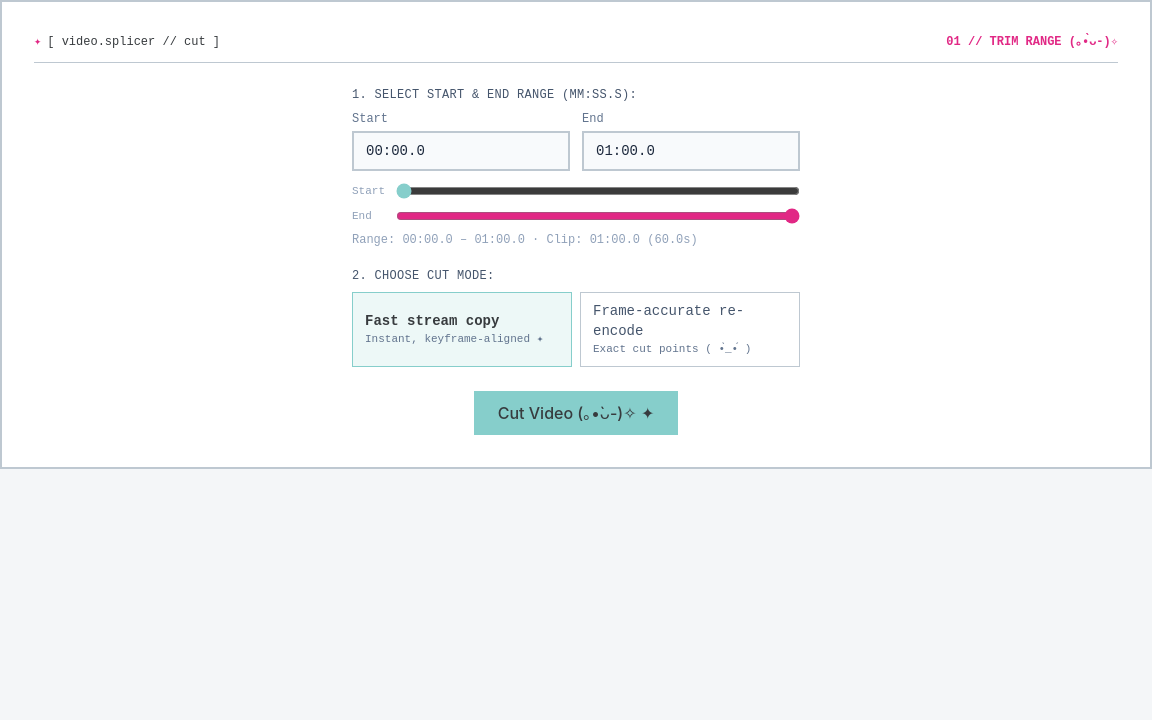
Scenario: CutPanel › timestamp parsing and form validation › blocks submission when end exceeds video duration
The width and height of the screenshot is (1152, 720).
Later steps or results of the test are not shown.
In the field with test id "cut-end-input": [691, 151] box [582, 131, 800, 171], type "01:15.0"
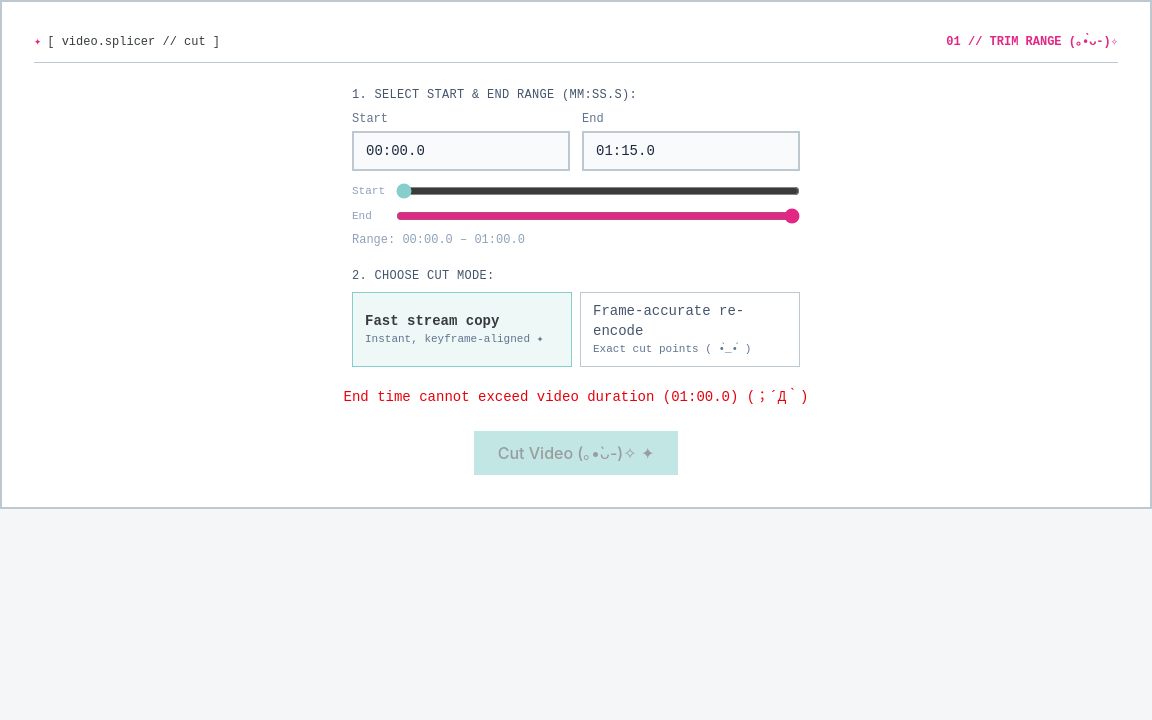
Result: the message with test id "cut-validation-error" shows "cannot exceed video duration" at [344, 388, 808, 404]
Result: the button with test id "start-cut-btn" is disabled at [474, 430, 678, 474]
